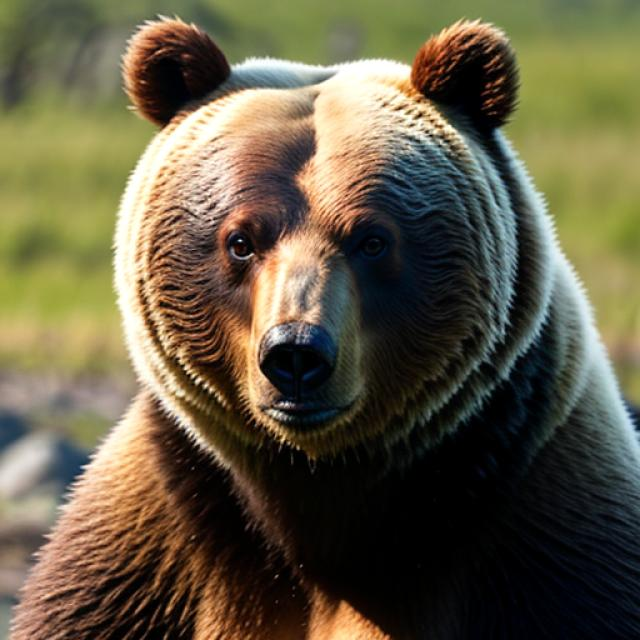bear: (97, 0, 563, 469)
